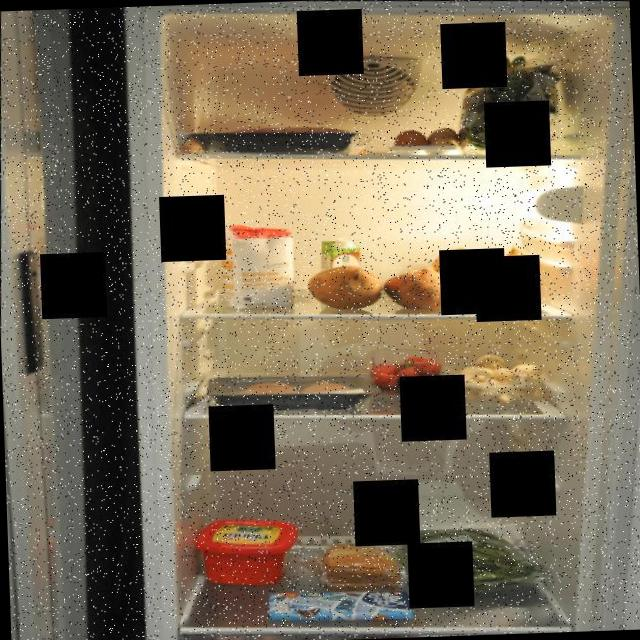Carne pollo: (205, 368, 373, 416)
Carne vacuno: (185, 121, 368, 161)
Cebolla: (422, 240, 543, 310)
Champiñones: (444, 347, 546, 409)
Huevos: (390, 123, 462, 158)
Mantequilla: (191, 513, 301, 592)
bread: (316, 537, 404, 595)
chocolate: (264, 585, 417, 626)
green_beans: (384, 520, 546, 596)
heavy_cream: (316, 234, 364, 305)
spinach: (453, 49, 569, 158)
strawberries: (366, 348, 444, 396)
sugar: (213, 218, 304, 312)
sweet_potato: (305, 258, 452, 316)
